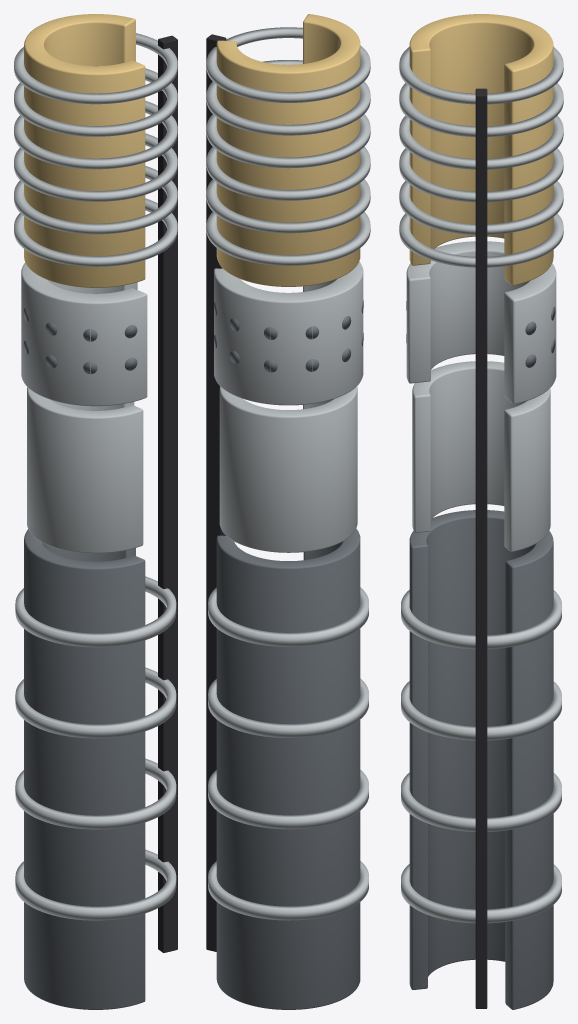
Rendered from esp.glb.
3 views of the same model, side by side, from view 1: azimuth 30°, elevation 25°; view 2: azimuth 150°, elevation 25°; view 3: azimuth 270°, elevation 25° (orthographic).
Parts seen in each view (by area): view 1: ESP motor, Pump, Seal protector, Intake, Power cable, Motor rib, Motor rib.003, Motor rib.002, Motor rib.001, Pump stage rib, Pump stage rib.004, Pump stage rib.002 (+3 smaller); view 2: ESP motor, Pump, Seal protector, Intake, Power cable, Pump stage rib, Motor rib.002, Motor rib, Motor rib.003, Motor rib.001, Pump stage rib.001, Pump stage rib.004 (+3 smaller); view 3: ESP motor, Pump, Seal protector, Intake, Power cable, Motor rib.002, Motor rib.001, Motor rib, Motor rib.003, Pump stage rib, Pump stage rib.002, Pump stage rib.003 (+3 smaller).
Part boxes in pixels (x1,y1,x2,y2): ESP motor: (24,529,145,1009); Pump: (24,14,145,287); Seal protector: (27,387,143,553); Intake: (21,262,147,406); Power cable: (158,35,177,952); Motor rib: (15,576,176,647); Motor rib.003: (15,849,176,920); Motor rib.002: (15,758,176,829); Motor rib.001: (15,667,176,738); Pump stage rib: (14,33,177,104); Pump stage rib.004: (14,166,177,234); Pump stage rib.002: (14,101,177,169); ESP motor: (216,528,360,1009); Pump: (216,14,360,286); Seal protector: (219,386,357,552); Intake: (214,261,363,405); Power cable: (206,34,226,951); Pump stage rib: (206,27,370,102); Motor rib.002: (208,770,368,829); Motor rib: (208,587,368,646); Motor rib.003: (208,861,368,920); Motor rib.001: (208,678,368,737); Pump stage rib.001: (206,60,370,135); Pump stage rib.004: (206,179,370,233); ESP motor: (409,510,553,1009); Pump: (409,14,553,285); Seal protector: (412,361,550,551); Intake: (406,241,556,404); Power cable: (475,88,487,1008); Motor rib.002: (401,772,561,831); Motor rib.001: (401,681,561,740); Motor rib: (401,590,561,649); Motor rib.003: (401,864,561,923); Pump stage rib: (399,47,563,104); Pump stage rib.002: (399,116,563,169); Pump stage rib.003: (399,148,563,202).
Bounding box in the file's own units: 1.21 × 7.2 × 1.14.
